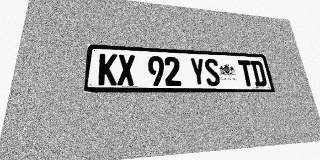2: (164, 56, 181, 86)
9: (148, 56, 165, 86)
D: (250, 60, 267, 86)
K: (98, 53, 117, 85)
S: (203, 58, 221, 86)
T: (238, 60, 255, 86)
X: (117, 54, 135, 86)
Y: (189, 58, 207, 86)
